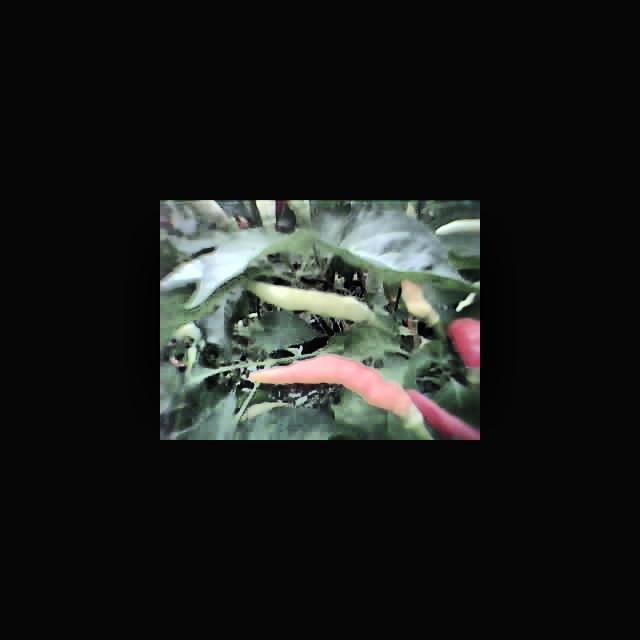Cabai: (268, 351, 413, 402), (410, 396, 480, 439), (460, 319, 480, 375)
